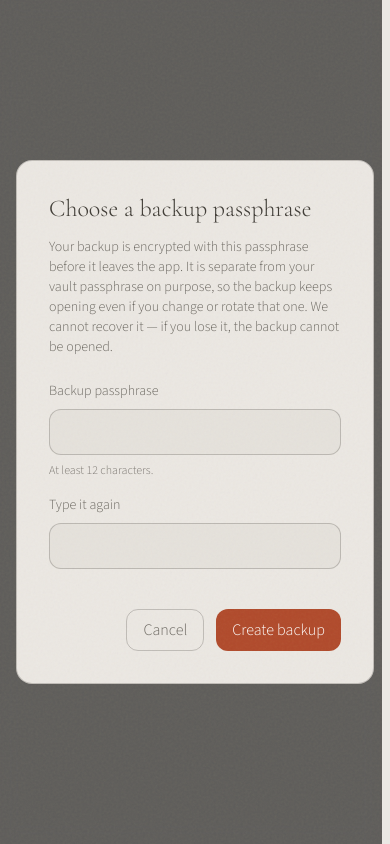
Test: BackupPassphraseModal — creating a backup › requires the confirmation to match
The image size is (390, 844).
Type "Correct-Horse-99" into the password field labelled "Backup passphrase" at {"x": 195, "y": 432}, box [49,409,341,455]
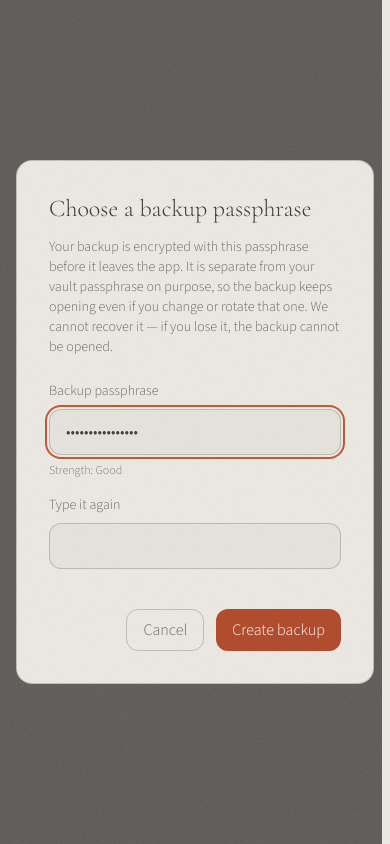
Type "Correct-Horse-98" into the password field labelled "Type it again" at {"x": 195, "y": 546}, box [49,523,341,569]
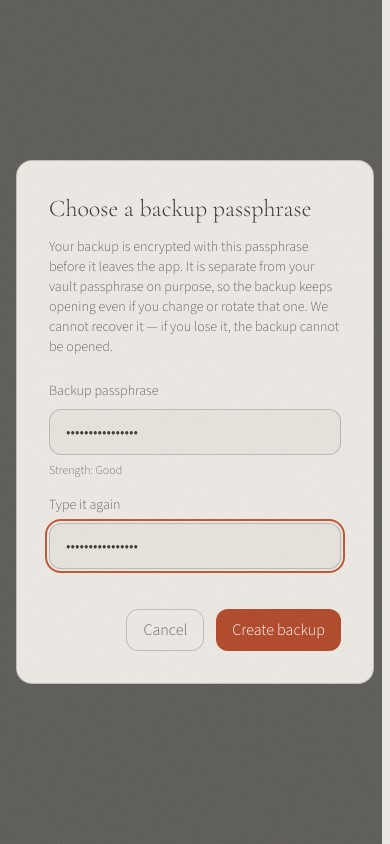
Click the button "Create backup" at {"x": 279, "y": 630}, box [216,609,341,651]
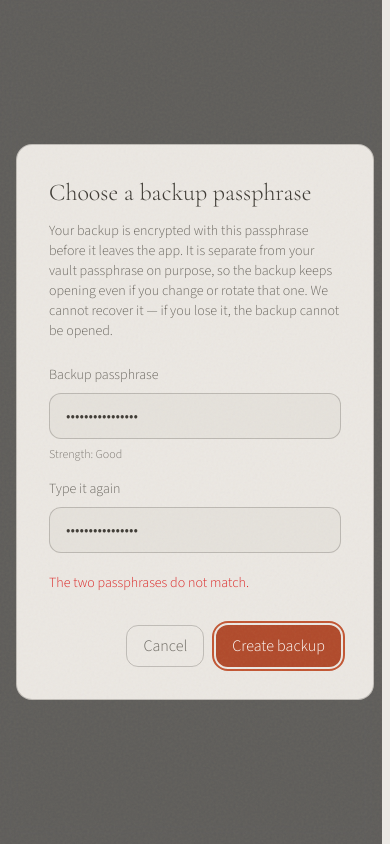
Expected: the message shows "do not match", [49,573,249,593]
